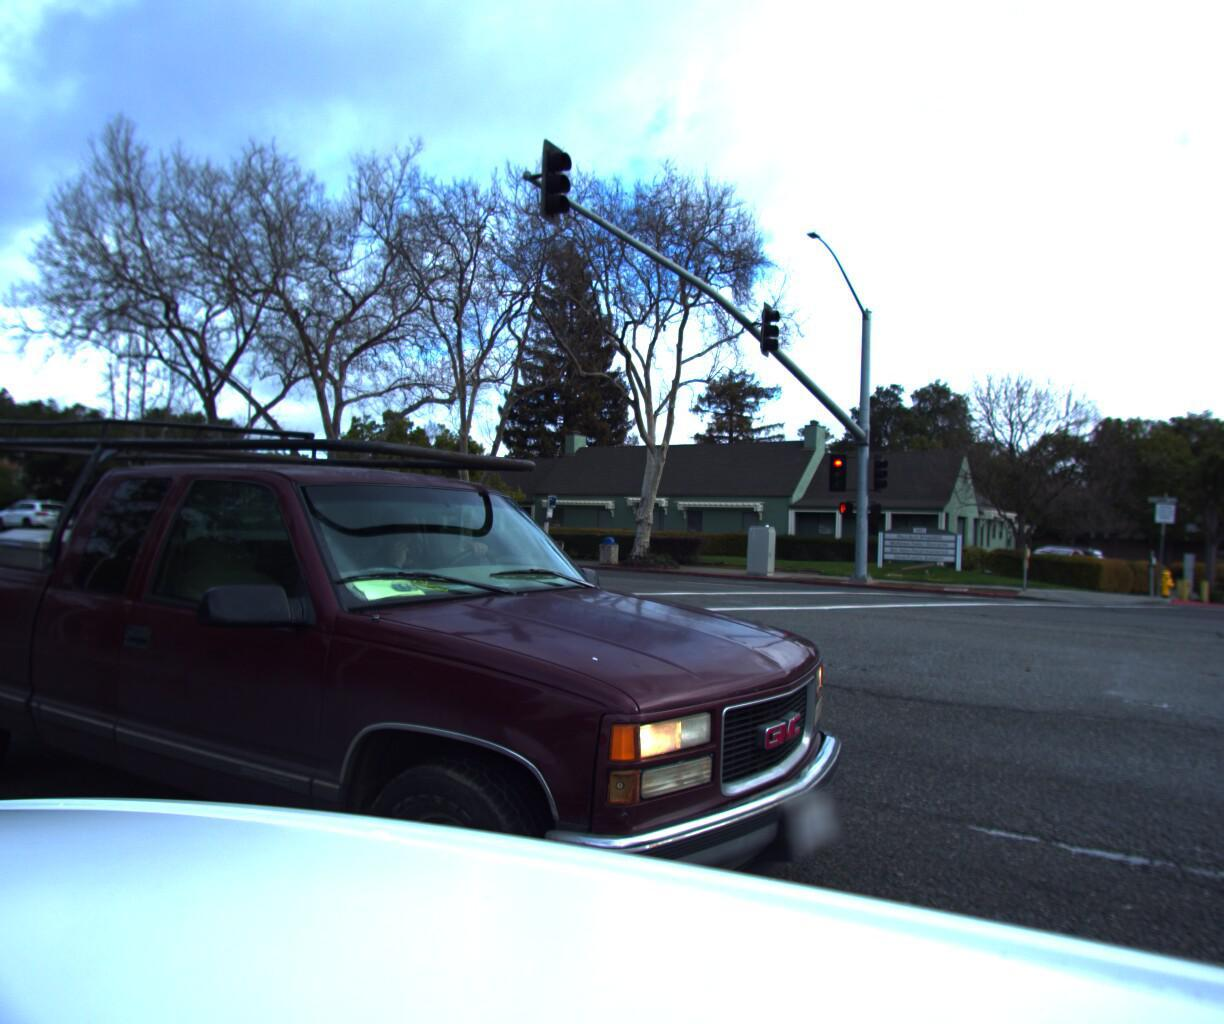car: (0, 335, 875, 1024), (0, 500, 76, 537), (70, 510, 132, 540)
